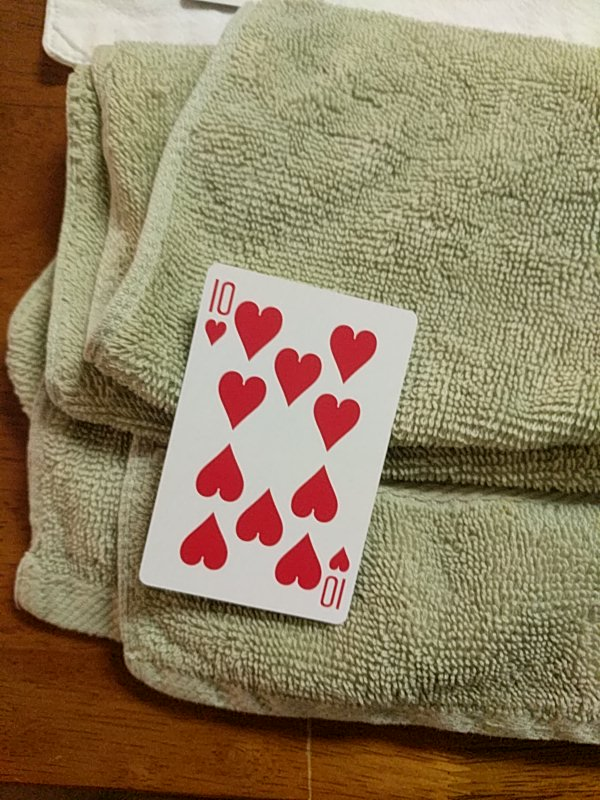Hearts: (134, 259, 424, 627)
